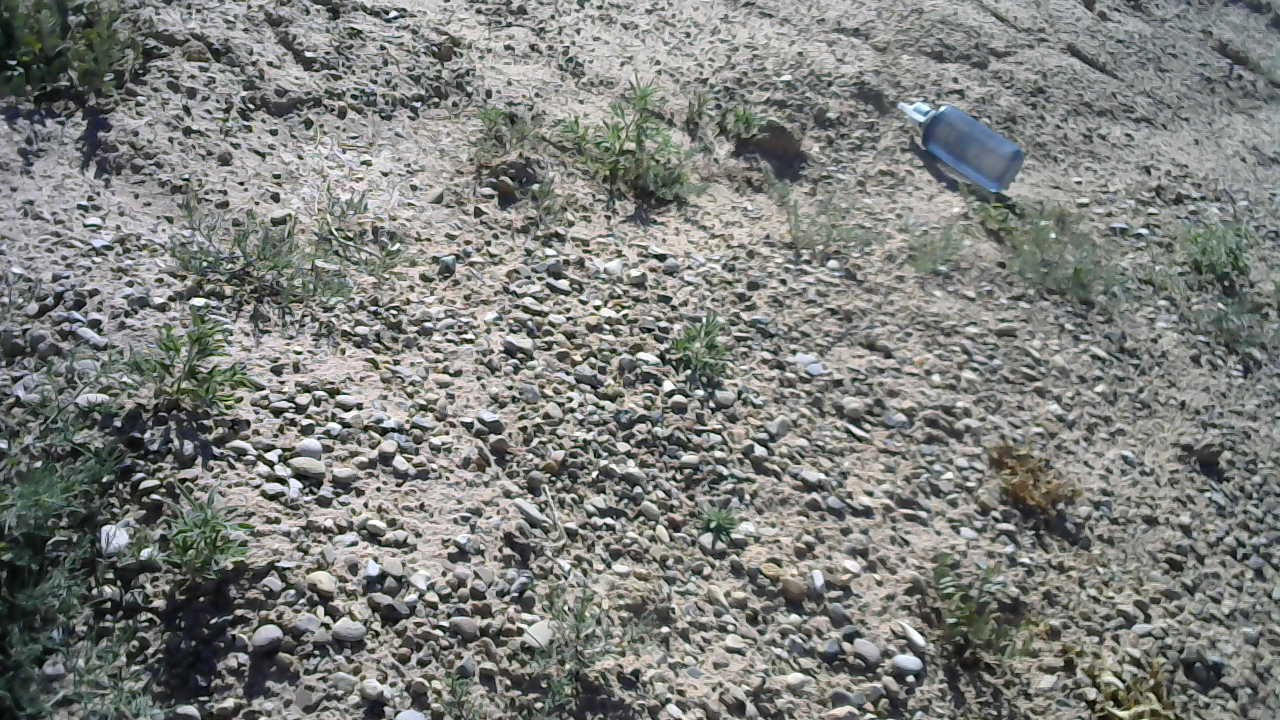bottle: (896, 99, 1025, 193)
